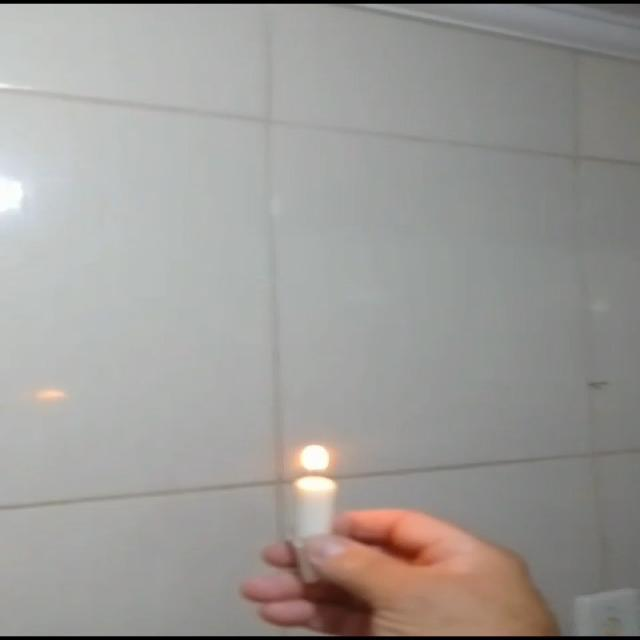fogo-ypXI: (296, 441, 336, 477)
